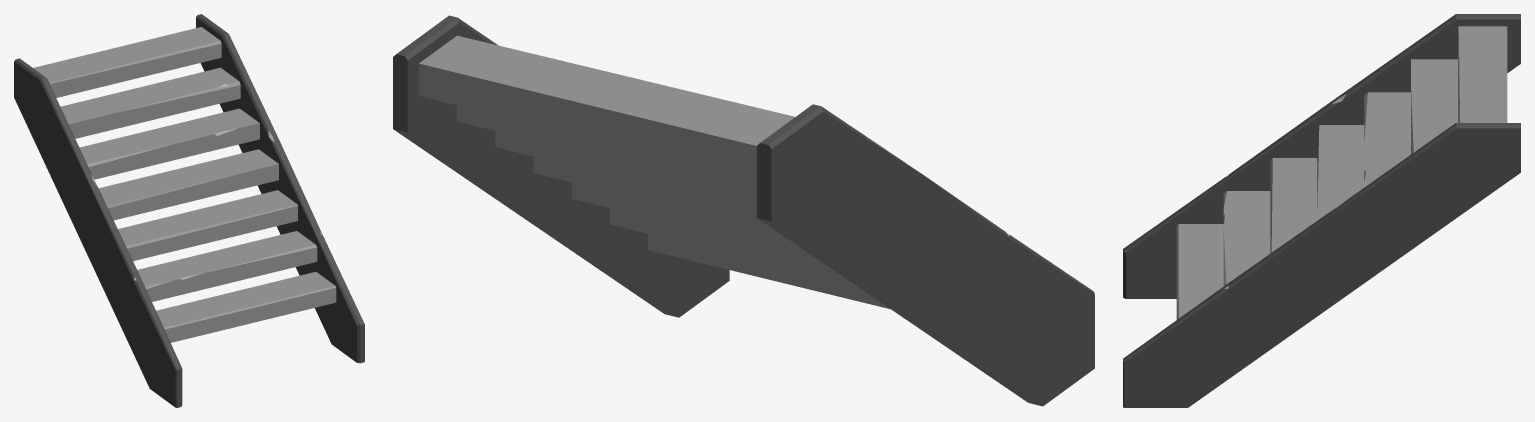
File: BG_wood_stairs_01.fbx
The picture shows the model from 3 angles, left to right: view 1: azimuth 30°, elevation 25°; view 2: azimuth 150°, elevation 25°; view 3: azimuth 270°, elevation 25°; orthographic projection. The views are drawn at different scales.
Parts seen in each view (by area): view 1: BG_wood_stairs_01; view 2: BG_wood_stairs_01; view 3: BG_wood_stairs_01.
Boxes of the visible parts, bbox=[...] form: BG_wood_stairs_01: bbox=[14, 14, 364, 407]; BG_wood_stairs_01: bbox=[393, 15, 1094, 406]; BG_wood_stairs_01: bbox=[1123, 14, 1520, 407].
Size of the model in its own units: 20 by 23.2 by 29.69.
